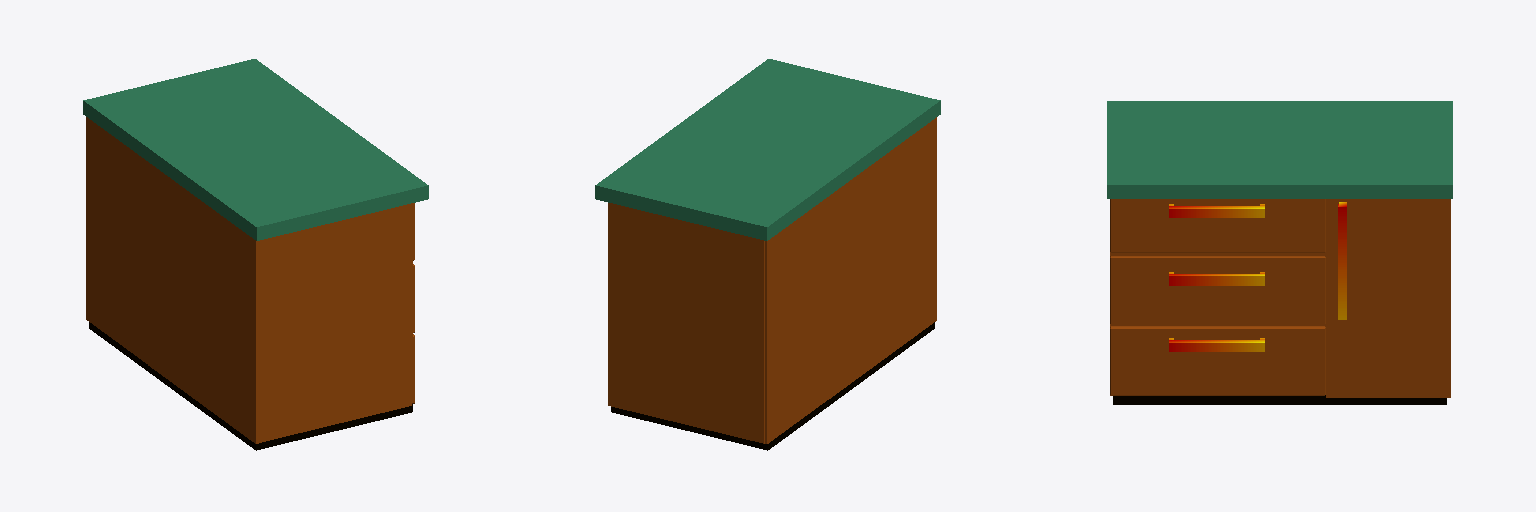
The picture shows the model from 3 angles: view 1: azimuth 30°, elevation 25°; view 2: azimuth 150°, elevation 25°; view 3: azimuth 270°, elevation 25°; orthographic projection.
Visible parts, largest first — view 1: MuebleCentro:pCube37; view 2: MuebleCentro:pCube37; view 3: MuebleCentro:pCube37.
Boxes of the visible parts, box(x1,y1,x2,y2) form: MuebleCentro:pCube37: box(83, 59, 428, 450); MuebleCentro:pCube37: box(595, 59, 940, 450); MuebleCentro:pCube37: box(1107, 101, 1452, 404).
Size of the model in its own units: 0.6515 by 0.8181 by 1.14.
Materials: 4 (4 with a texture image).